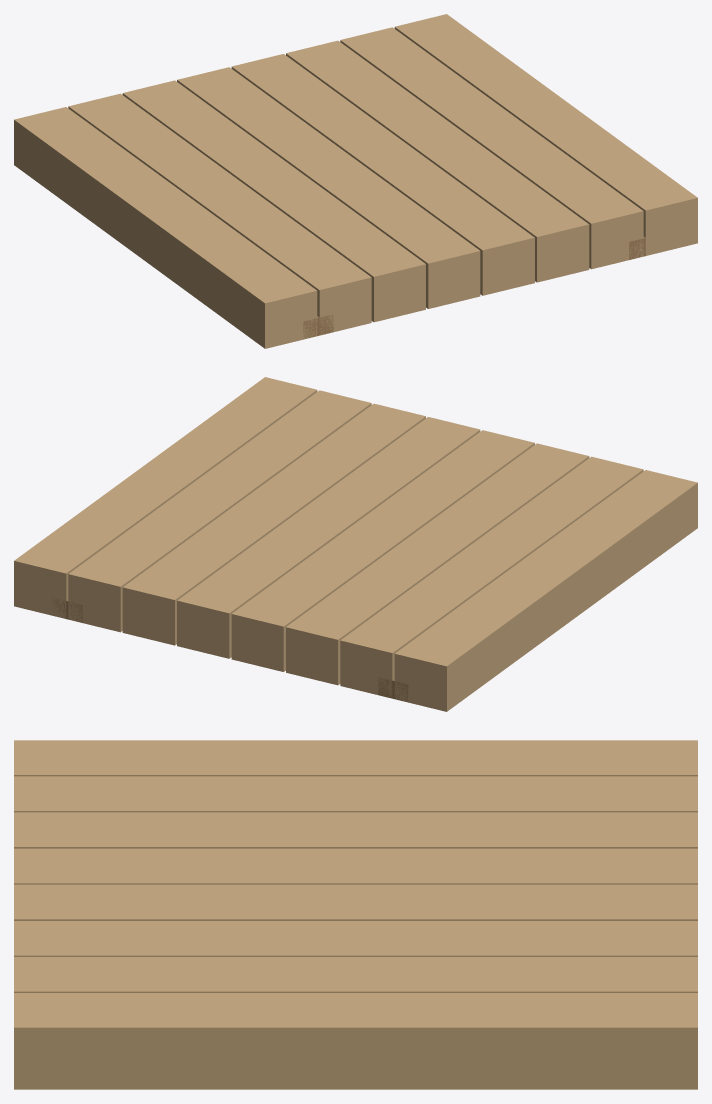
Rendered from campaign_floor.glb.
3 renders of one model, top to bottom at view 1: azimuth 30°, elevation 25°; view 2: azimuth 150°, elevation 25°; view 3: azimuth 270°, elevation 25°, orthographic. The views are drawn at different scales.
Parts seen in each view (by area): view 1: campaign_floor; view 2: campaign_floor; view 3: campaign_floor.
Boxes of the visible parts, x1,y1,x2,y2 form: campaign_floor: (14,14,697,348); campaign_floor: (14,377,697,711); campaign_floor: (14,740,697,1089).
Size of the model in its own units: 1.99 by 0.2 by 2.
